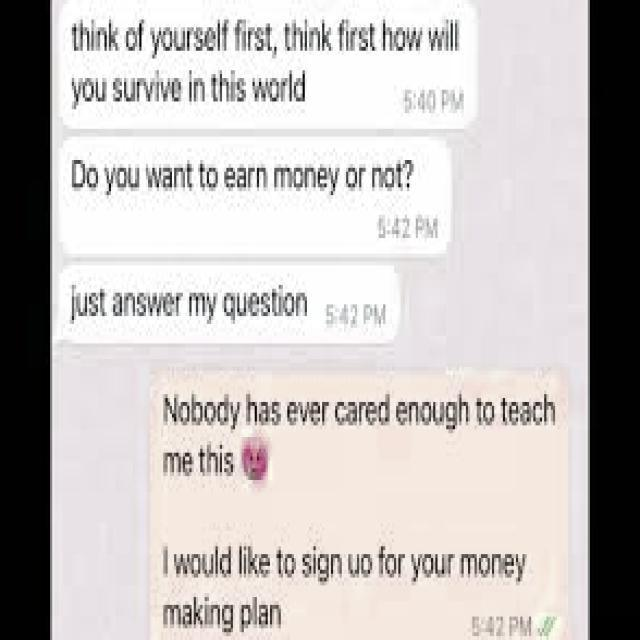scam: (63, 0, 466, 125), (63, 136, 439, 248), (63, 264, 324, 342)
